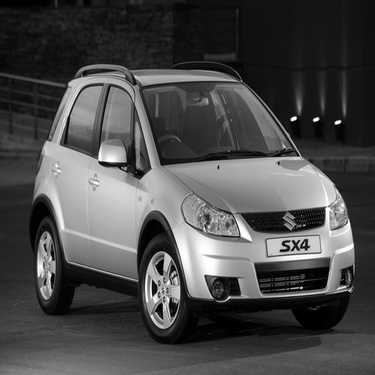car: (25, 50, 365, 347)
